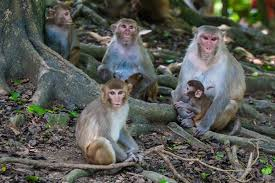monkey: (143, 11, 258, 128), (70, 66, 144, 156), (100, 6, 171, 91), (41, 3, 90, 58)
